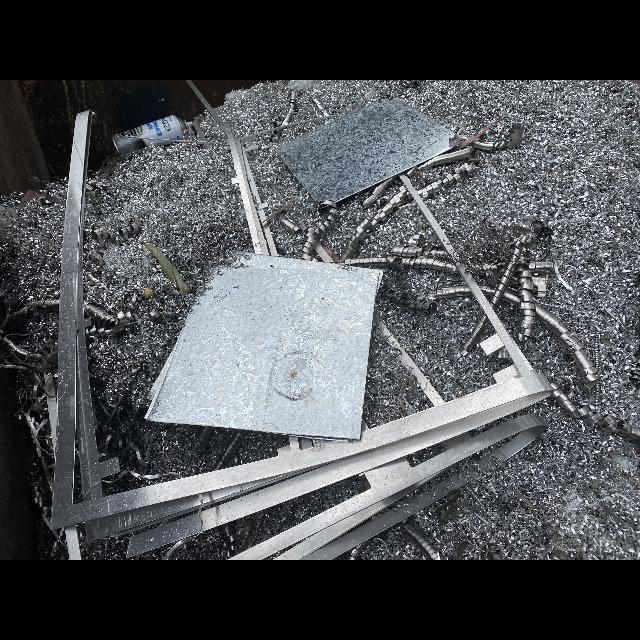Aluminium: (34, 80, 640, 560), (319, 81, 640, 417)
Galvanized Steel: (146, 254, 383, 442), (276, 99, 456, 201)
Stainless Steel: (481, 238, 597, 388), (336, 186, 459, 271), (555, 385, 640, 441), (407, 140, 494, 177), (379, 284, 475, 313), (0, 335, 58, 373), (418, 162, 476, 200), (300, 202, 337, 261), (84, 300, 129, 337), (402, 525, 441, 560), (9, 301, 59, 328), (461, 313, 490, 354), (362, 176, 396, 209), (91, 225, 116, 255), (121, 211, 148, 236), (496, 124, 523, 148), (280, 219, 303, 236), (533, 221, 553, 238), (534, 276, 548, 298), (288, 90, 295, 111), (281, 115, 294, 126), (312, 99, 324, 108), (319, 110, 329, 116)
